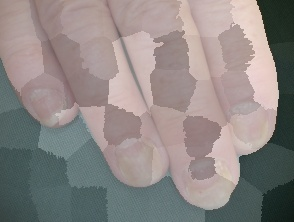Nail_psoriasis: (173, 148, 243, 217), (221, 89, 286, 161), (108, 125, 170, 193), (22, 77, 75, 135)
